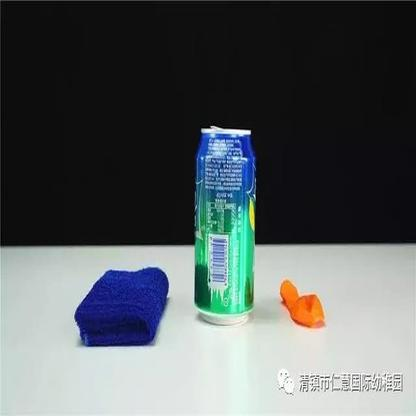can: (180, 116, 269, 335)
